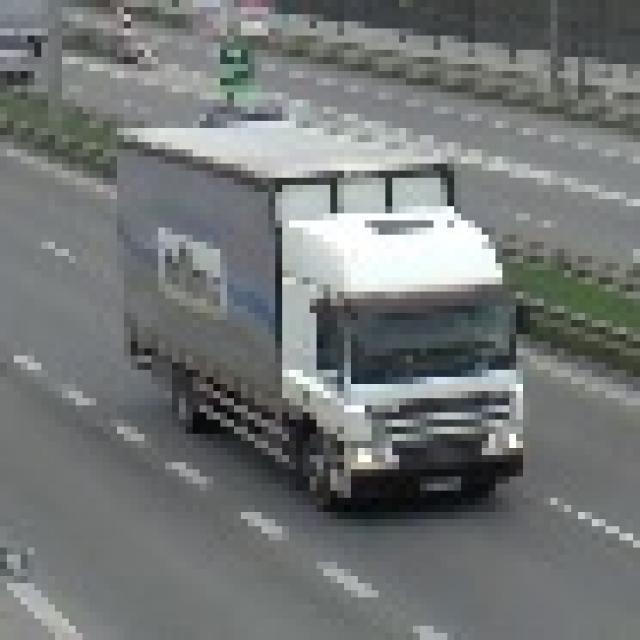truck: (85, 82, 556, 526)
